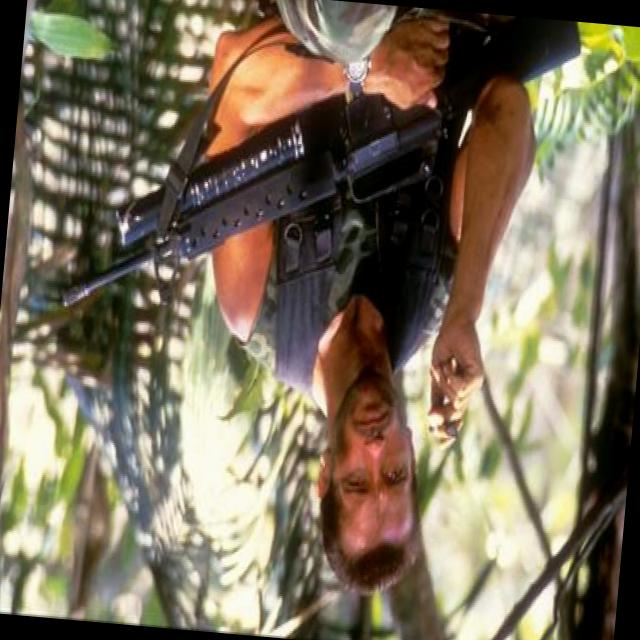smoke: (418, 425, 468, 453)
